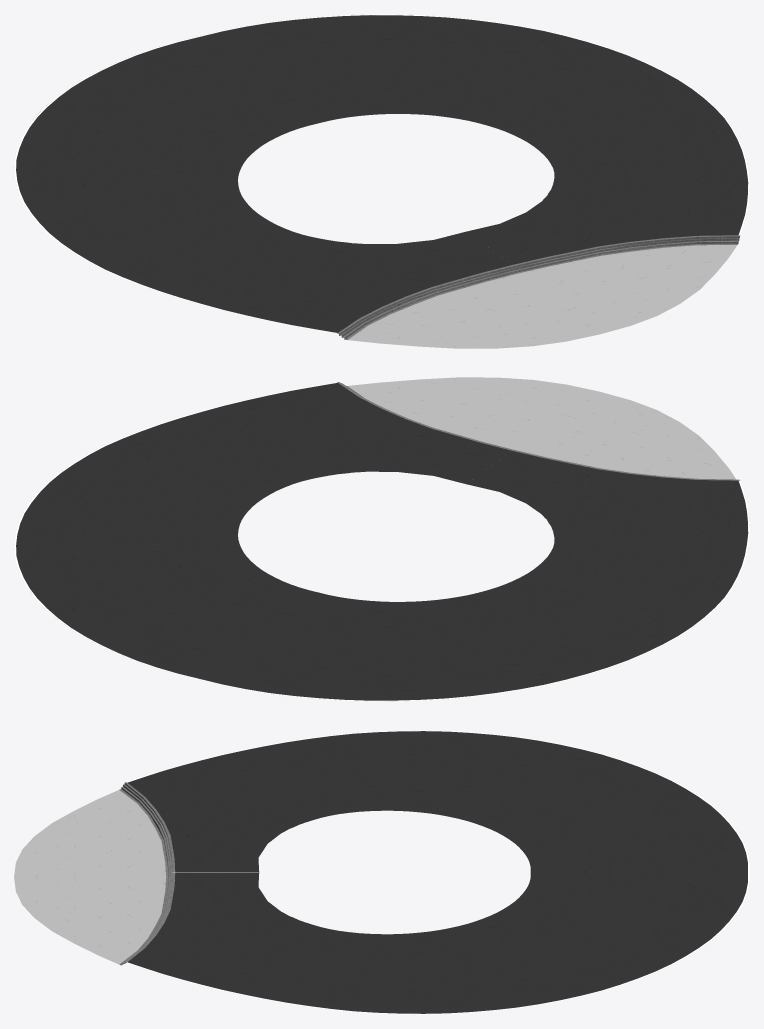
File: GroundFloor.fbx
The picture shows the model from 3 angles, top to bottom: view 1: azimuth 30°, elevation 25°; view 2: azimuth 150°, elevation 25°; view 3: azimuth 270°, elevation 25°; orthographic projection. The views are drawn at different scales.
Visible parts, largest first — view 1: GroundFloor; view 2: GroundFloor; view 3: GroundFloor.
Part boxes in pixels (x1,y1,x2,y2): GroundFloor: (14,14,749,348); GroundFloor: (14,377,749,701); GroundFloor: (14,730,749,1014).
Bounding box in the file's own units: 121 × 0.935 × 132.
